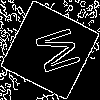M: (25, 25, 82, 79)
